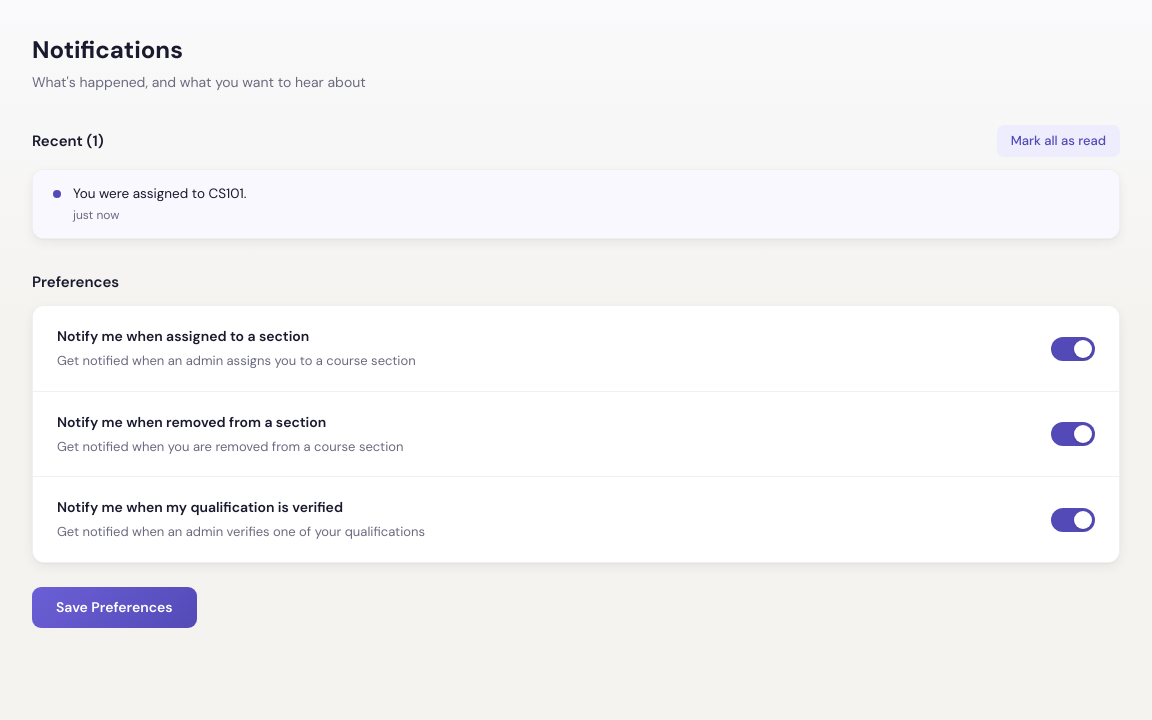
InstructorNotifications › marks all as read, updating the database and clearing the local unread state
Expected: the heading "Recent (1)" is shown, [32,130,104,152]
Click the button "Mark all as read" at (1058, 141), box [997,125,1120,156]
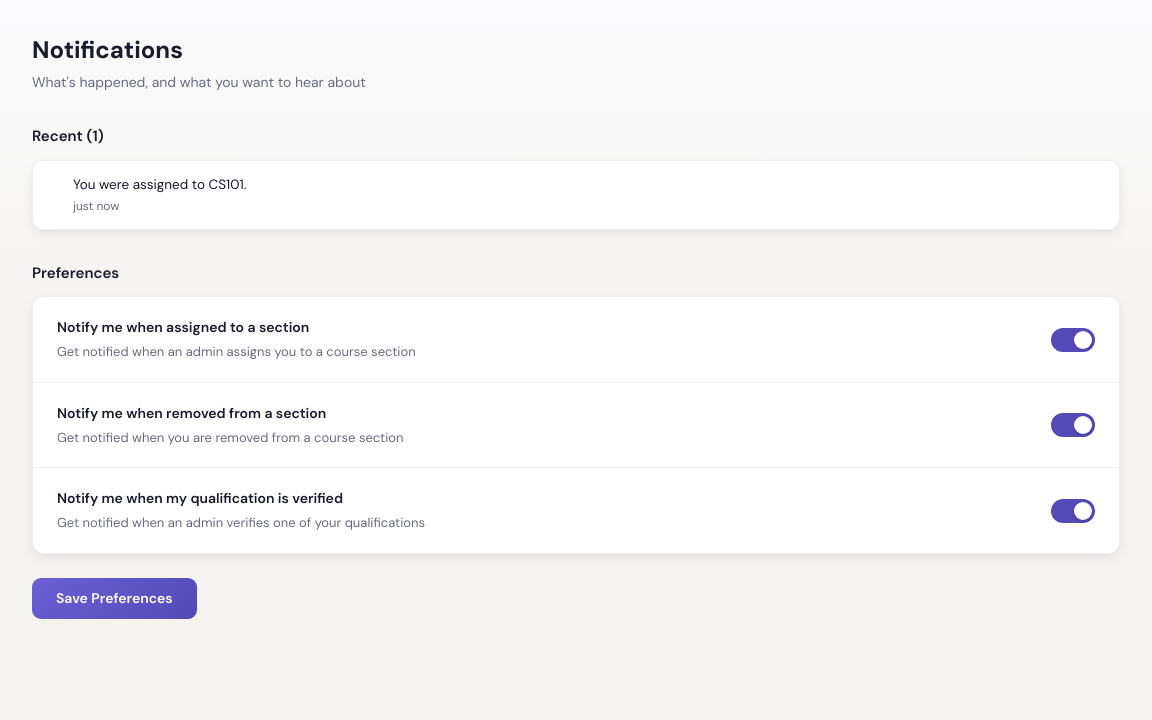
Now the button "Mark all as read" is gone
